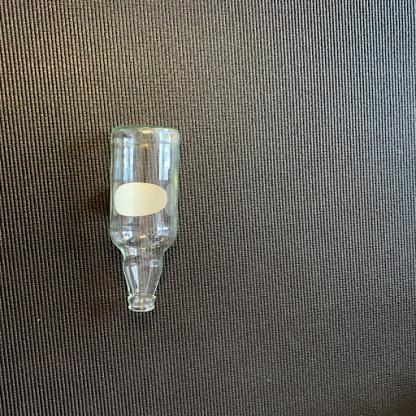trash: (110, 123, 184, 314)
